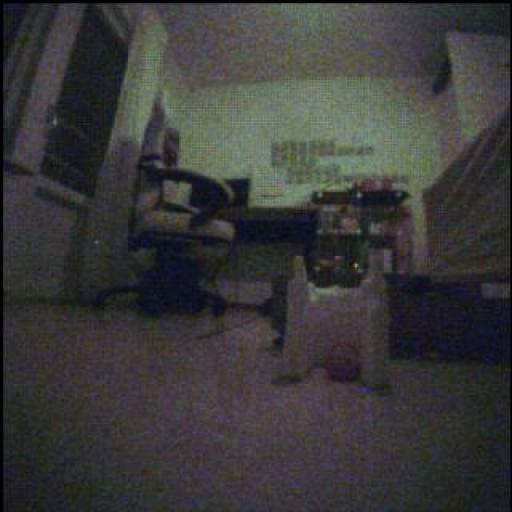basket: (324, 339, 361, 386)
